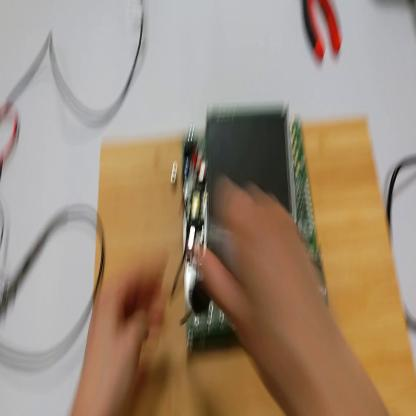hand: (189, 179, 329, 376), (77, 246, 169, 416)
low voltage board: (172, 111, 329, 356)
oscilloscope probe tip: (1, 207, 62, 316)
pliers: (302, 1, 344, 64)
screwdriver-: (184, 213, 236, 320)
working area: (96, 117, 415, 412)
